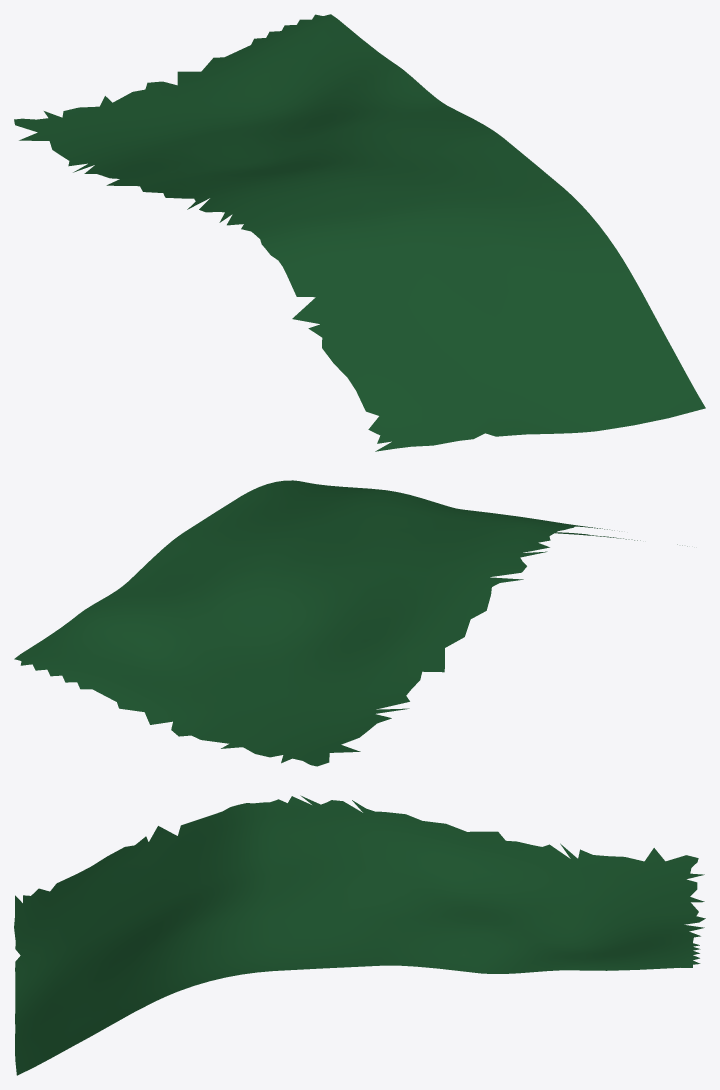
The model's file is payo_land_xm5_ym1.glb.
The picture shows the model from 3 angles, top to bottom: view 1: azimuth 30°, elevation 25°; view 2: azimuth 150°, elevation 25°; view 3: azimuth 270°, elevation 25°; orthographic projection. The views are drawn at different scales.
Parts seen in each view (by area): view 1: payo_land_xm5_ym1; view 2: payo_land_xm5_ym1; view 3: payo_land_xm5_ym1.
Part boxes in pixels (left/top/right/bottom): payo_land_xm5_ym1: left=14, top=14, right=705, bottom=451; payo_land_xm5_ym1: left=14, top=480, right=687, bottom=766; payo_land_xm5_ym1: left=14, top=795, right=705, bottom=1075.
Size of the model in its own units: 131 by 56.46 by 260.
